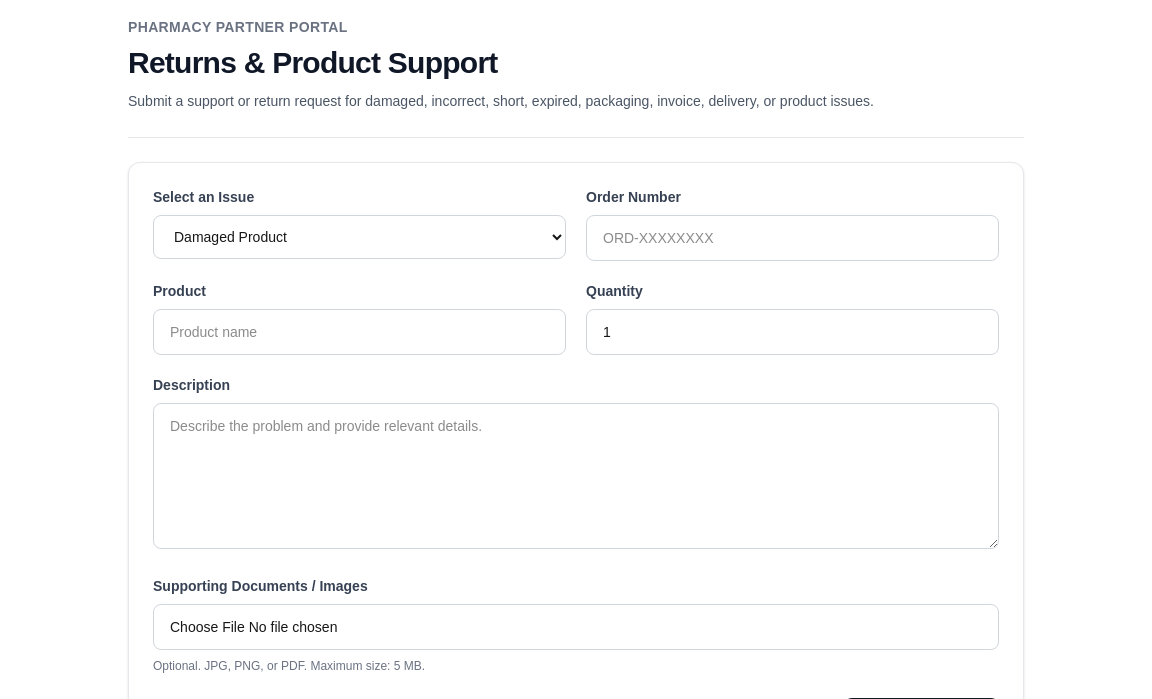
Test case: Support page integration › submits a support request
This screenshot has width=1152, height=699.
Type "ORD-TEST-12345" into the field labelled "Order Number" at {"x": 792, "y": 238}, box [586,215,999,261]
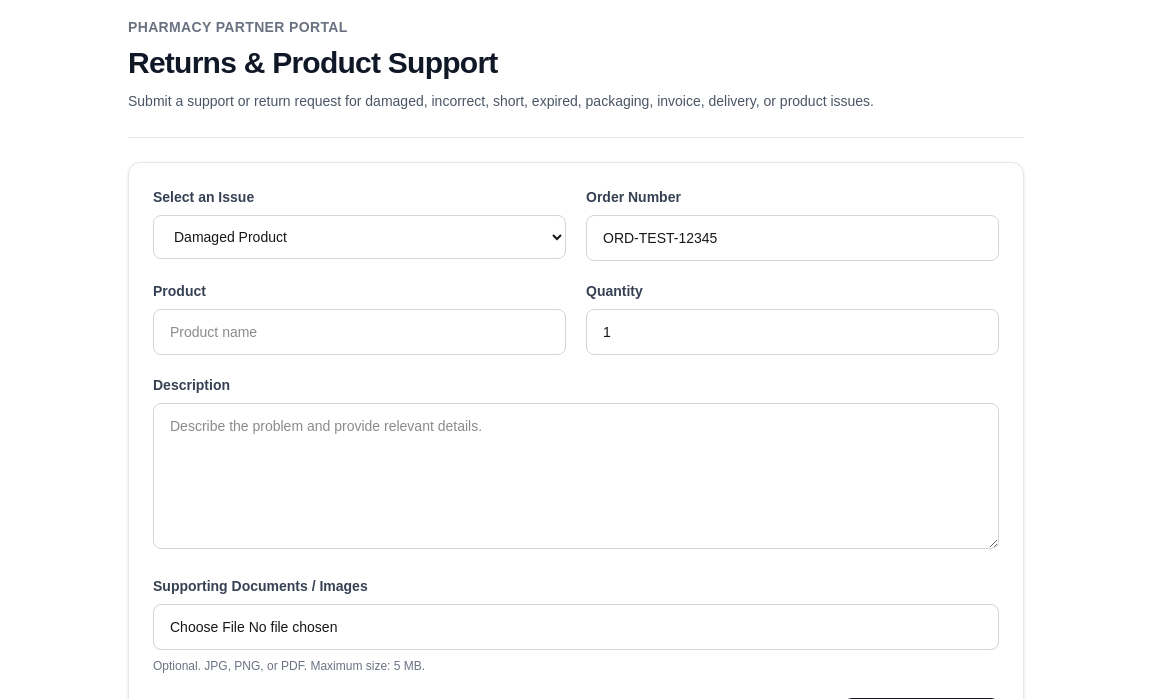
Type "Paracetamol 500 mg Tablets" into the field labelled "Product" at {"x": 360, "y": 332}, box [153,309,566,355]
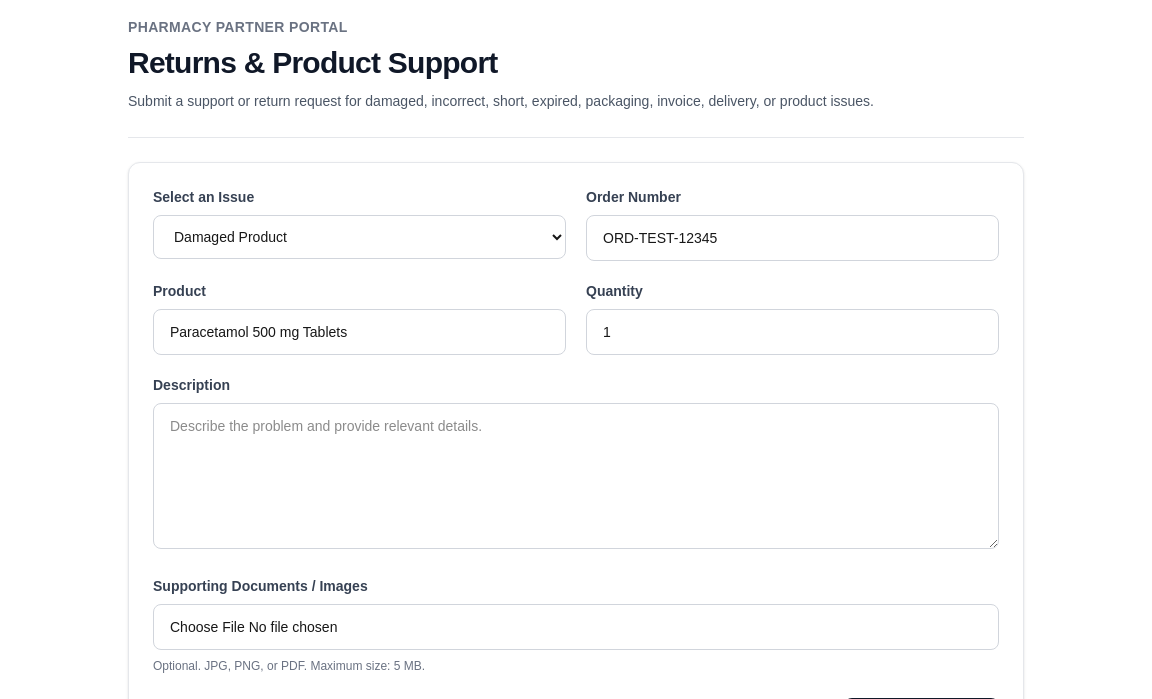
Replace the text in the number field labelled "Quantity" with "2" at {"x": 792, "y": 332}, box [586,309,999,355]
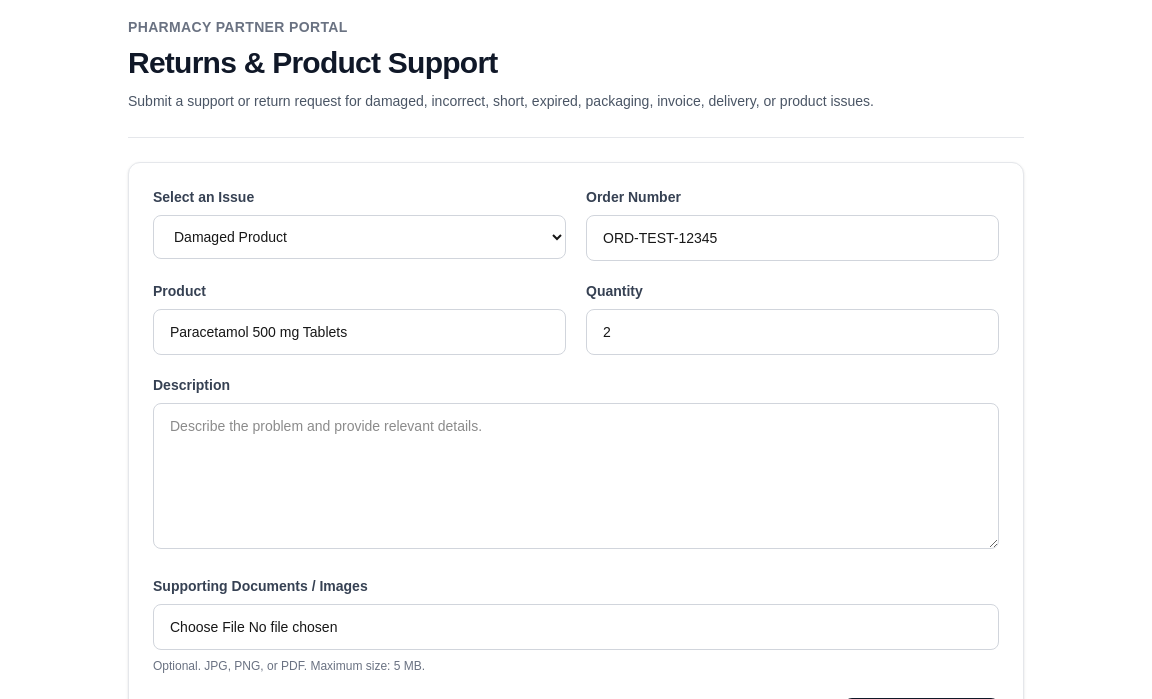
Type "Two packs arrived damaged." into the text box labelled "Description" at {"x": 576, "y": 476}, box [153,403,999,549]
(page scrolled)
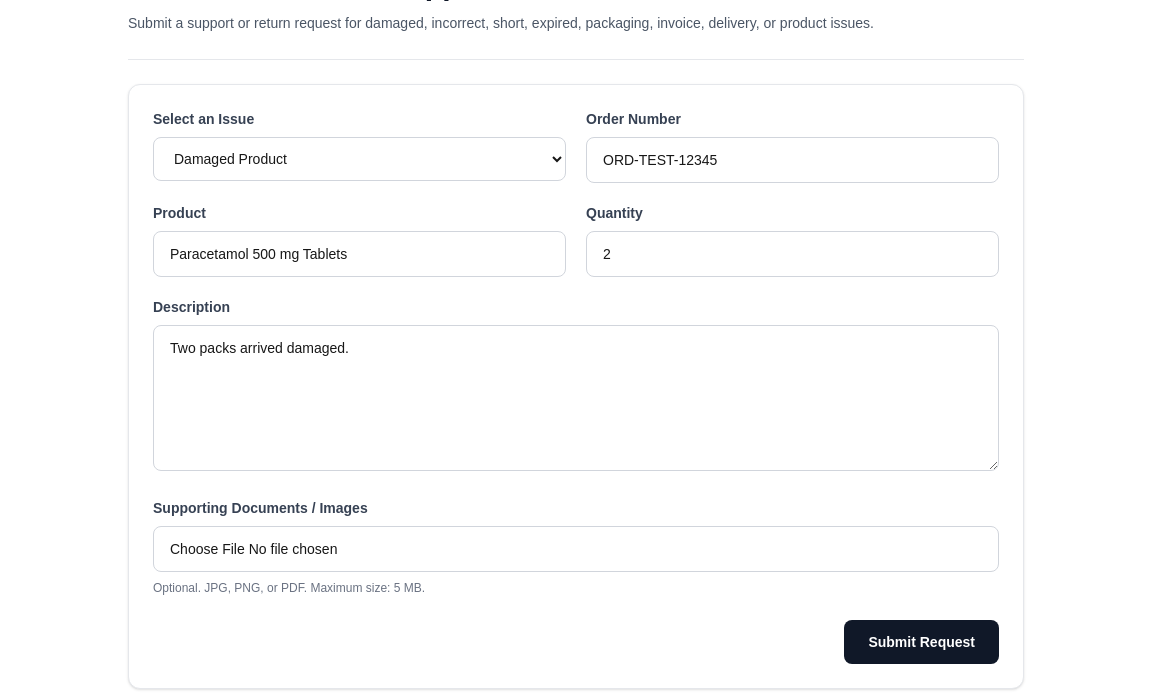
Click the button "Submit Request" at {"x": 922, "y": 642}, box [844,620,999,664]
(page scrolled)
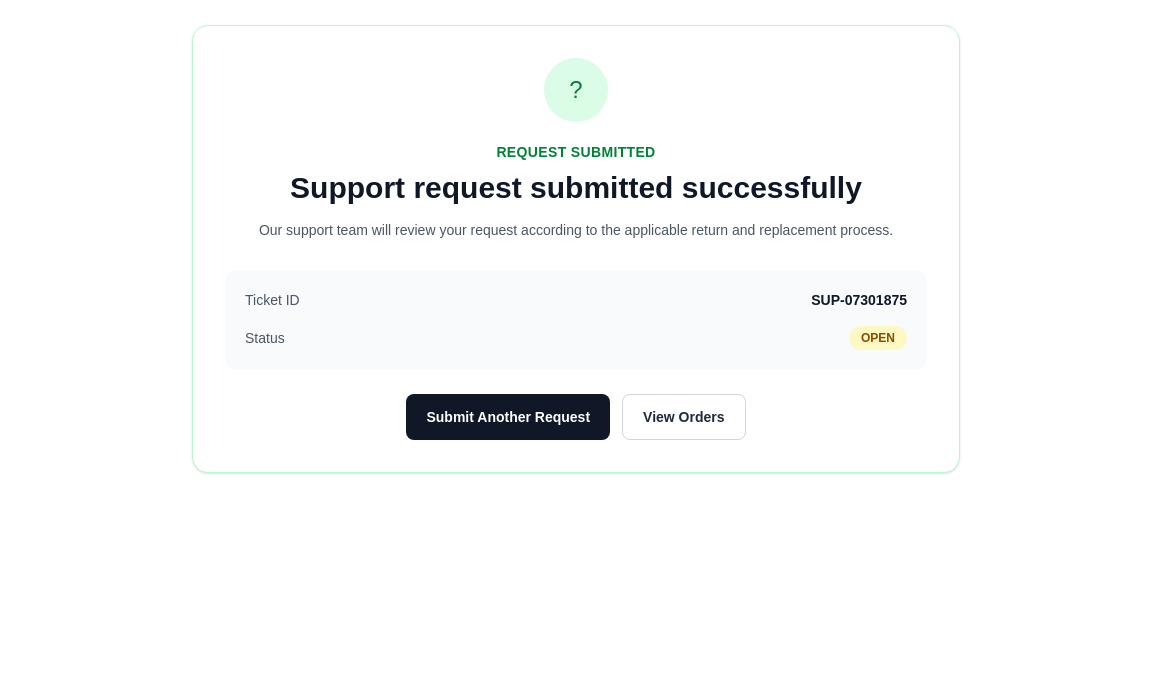
Expected: the heading "Support request submitted successfully" is shown, [290,171,862,204]
Expected: the text "OPEN" is shown, [849,326,907,350]
